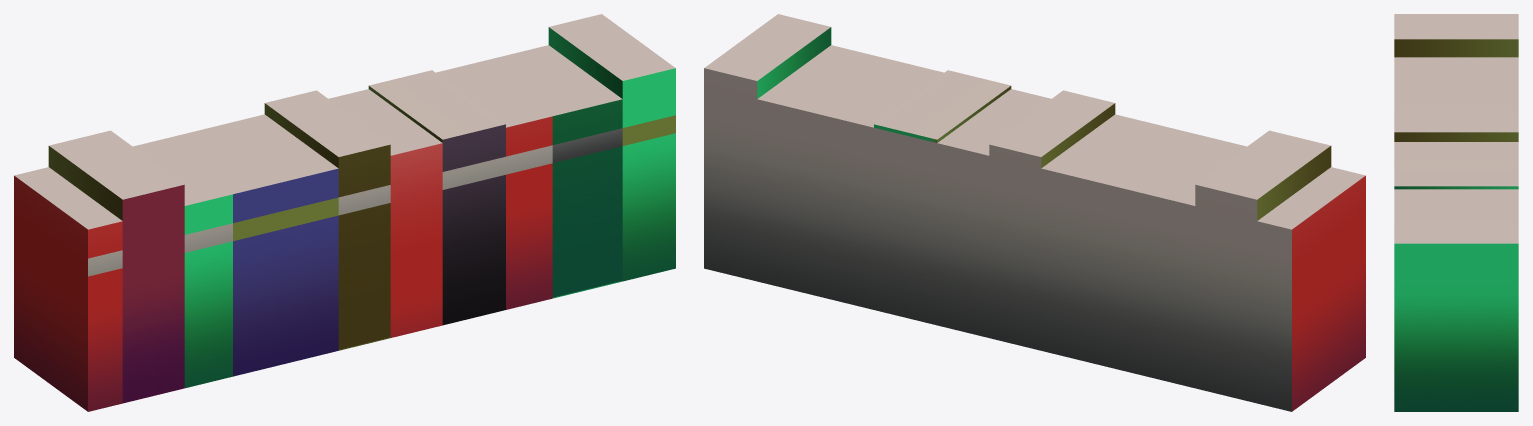
File: propBooks_mesh.fbx
The picture shows the model from 3 angles, left to right: view 1: azimuth 30°, elevation 25°; view 2: azimuth 150°, elevation 25°; view 3: azimuth 270°, elevation 25°; orthographic projection. The views are drawn at different scales.
Parts seen in each view (by area): view 1: books; view 2: books; view 3: books.
Boxes of the visible parts, x1,y1,x2,y2 form: books: (14, 14, 675, 411); books: (704, 14, 1365, 411); books: (1394, 14, 1518, 411).
Bounding box in the file's own units: 1 × 0.3312 × 0.2181.
